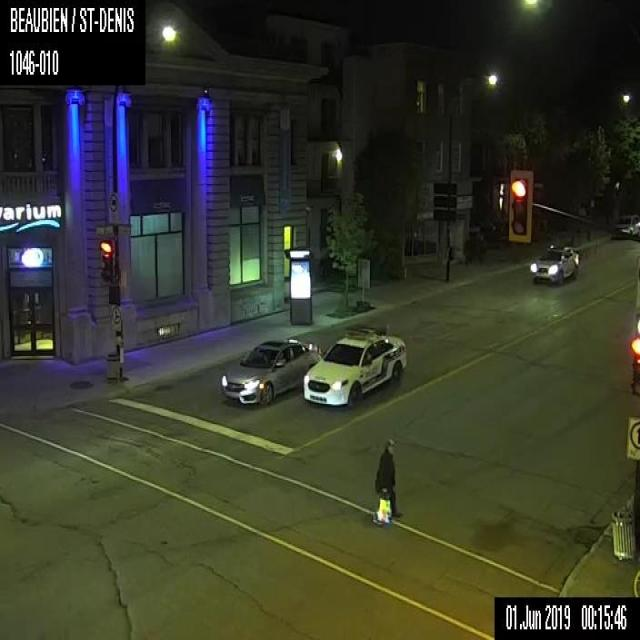pedestrian: (371, 436, 403, 525)
vehicle: (303, 323, 407, 406), (218, 336, 323, 405), (529, 244, 579, 285), (611, 213, 639, 239)
